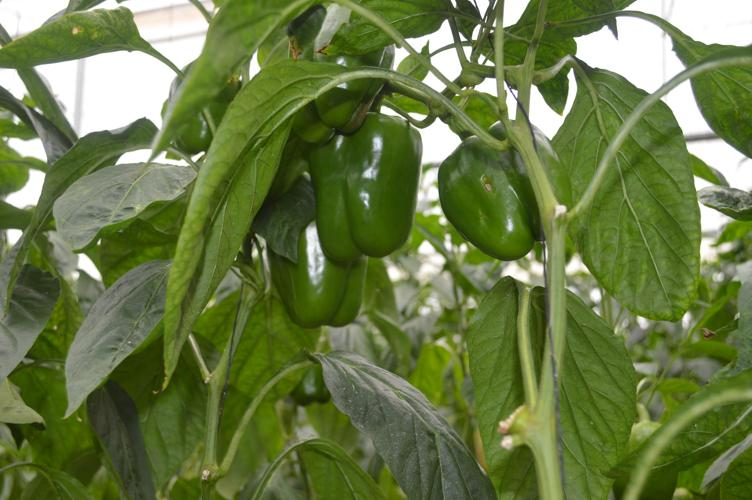BellPepper: (438, 122, 575, 265), (307, 113, 423, 261), (280, 37, 395, 144), (263, 224, 368, 329), (163, 70, 235, 149)
